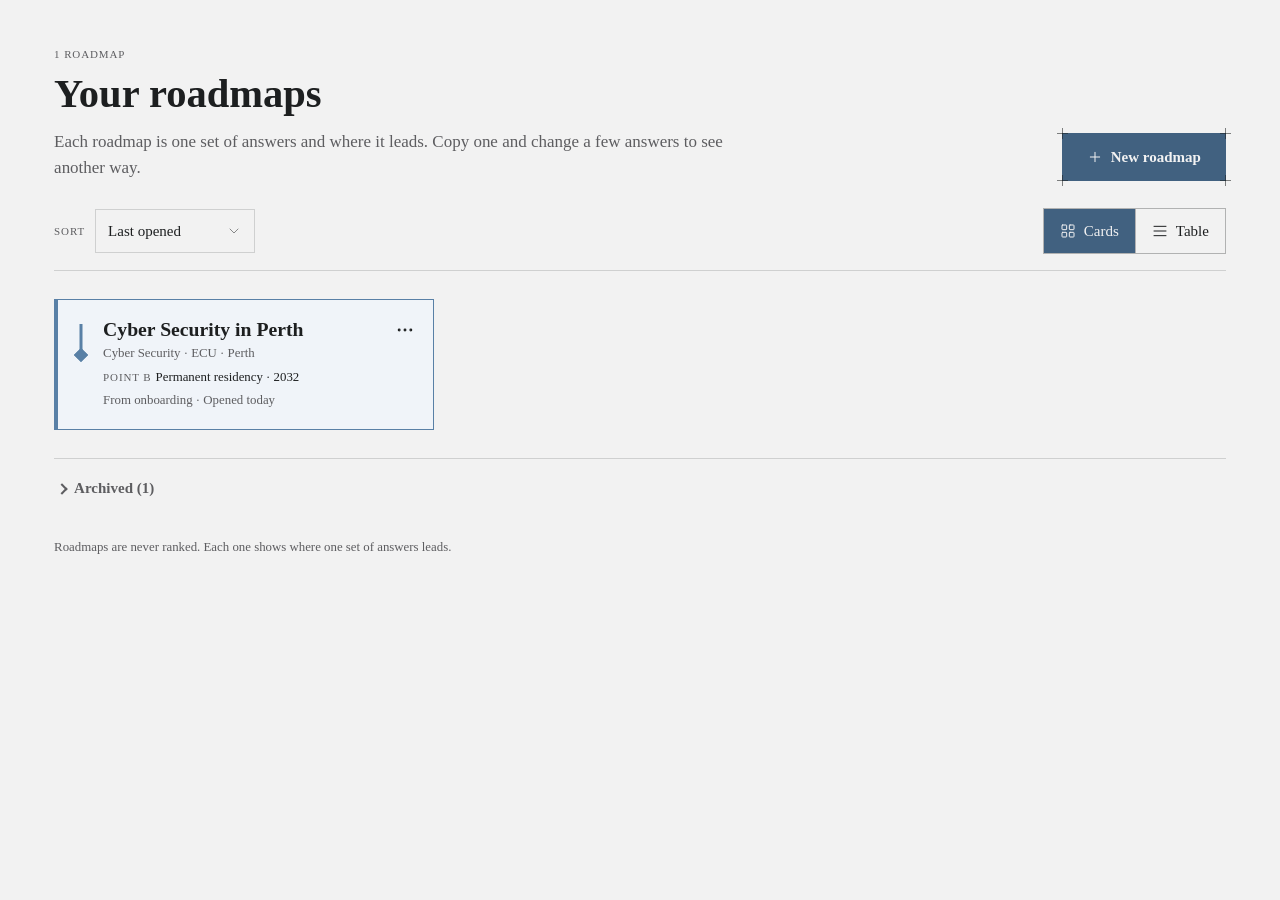
Test: Show as a table › lists archived roadmaps in their own table in the fold, each row restoring
Click the button "Table" at (1180, 231), box top-left (1135, 209), bottom-right (1225, 253)
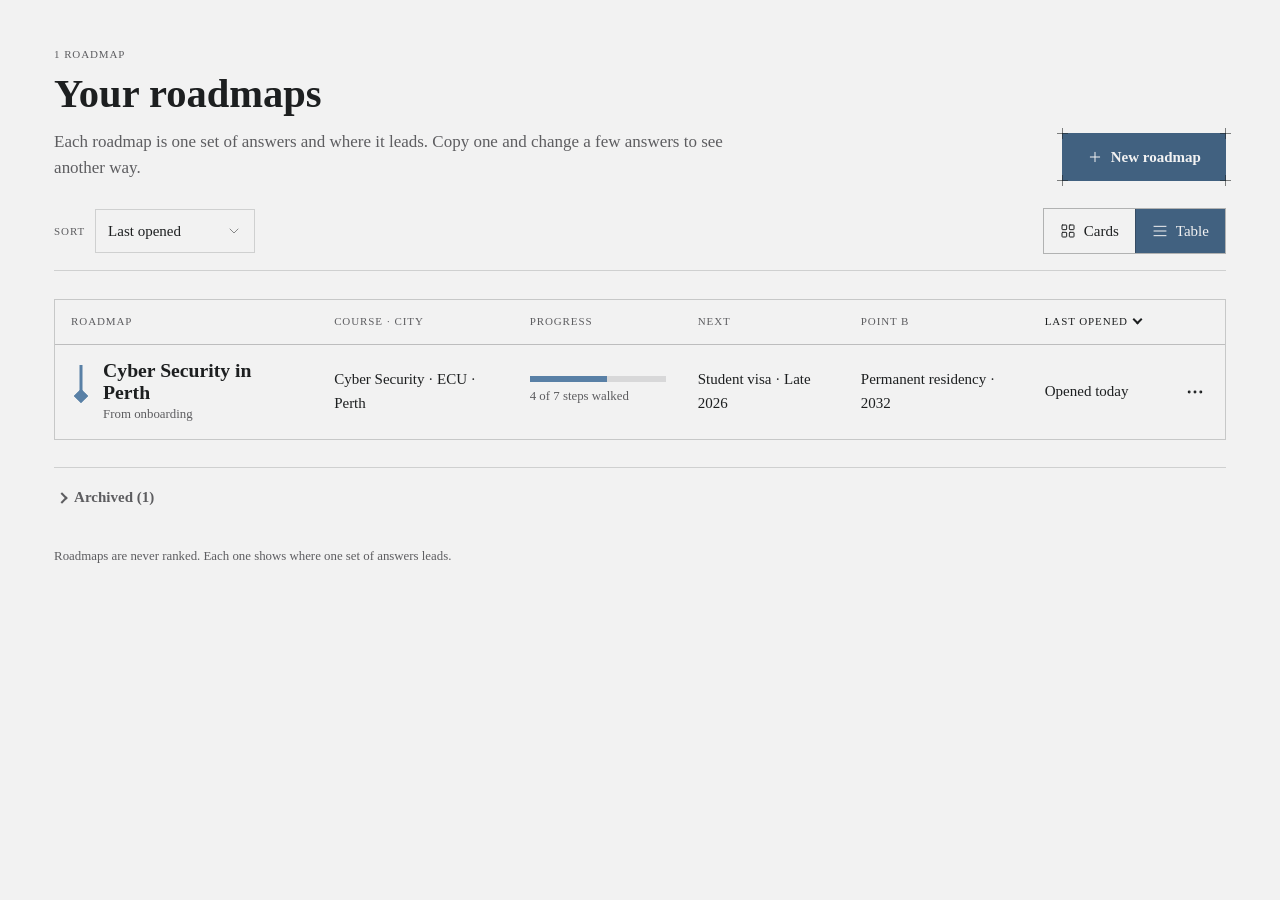
Expected: the number of rows is 2, top-left (55, 300), bottom-right (1225, 344); top-left (55, 344), bottom-right (1225, 438)
Click the button "Archived (1)" at (106, 498), box top-left (54, 476), bottom-right (158, 520)
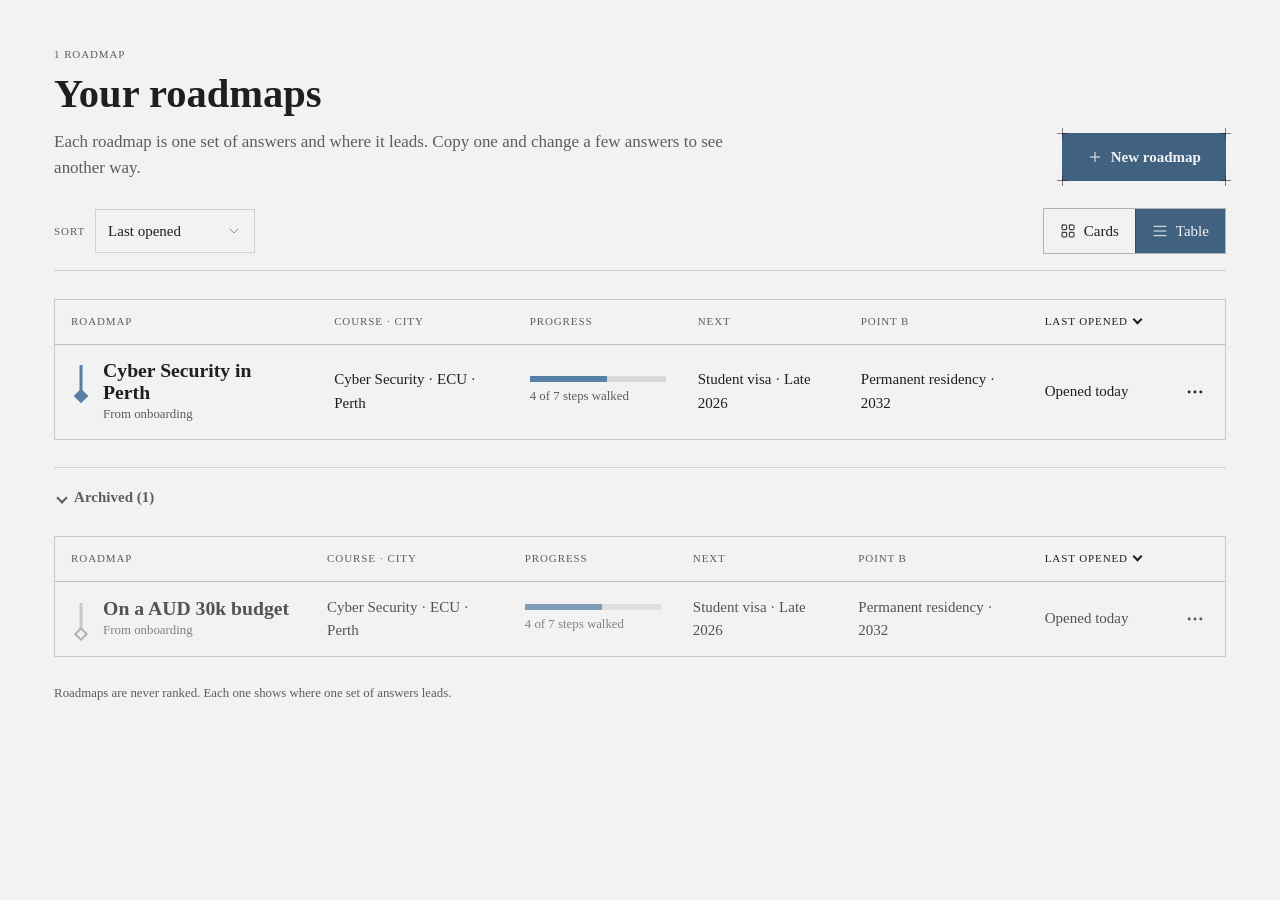
Click the button with aria-label "Restore On a AUD 30k budget" at (180, 619), box top-left (71, 597), bottom-right (289, 641)
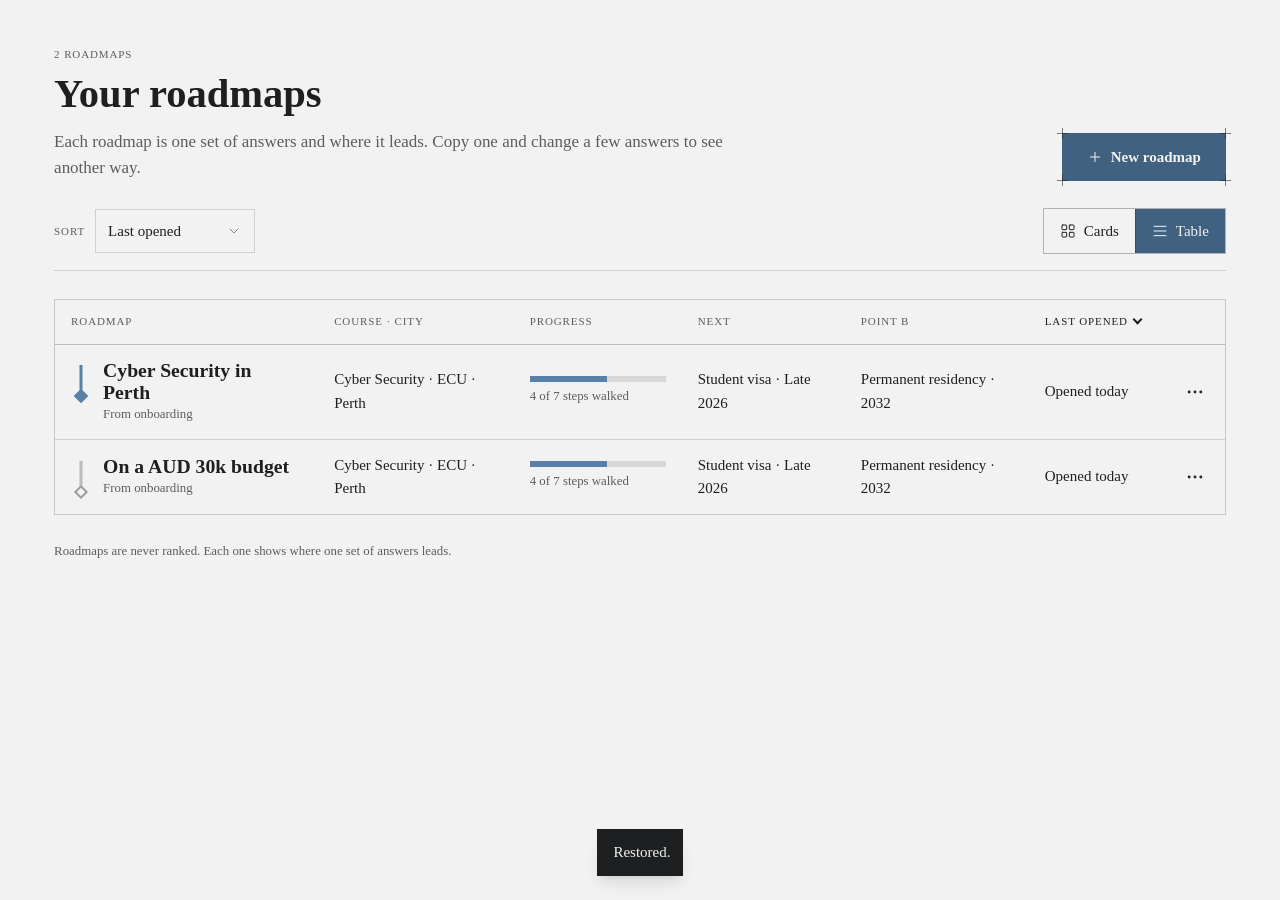
Expected: the number of rows is 3, top-left (55, 300), bottom-right (1225, 344); top-left (55, 344), bottom-right (1225, 439); top-left (55, 439), bottom-right (1225, 514)
